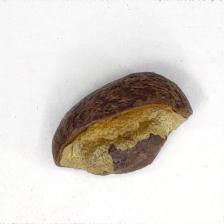NG: (51, 102, 191, 176)
